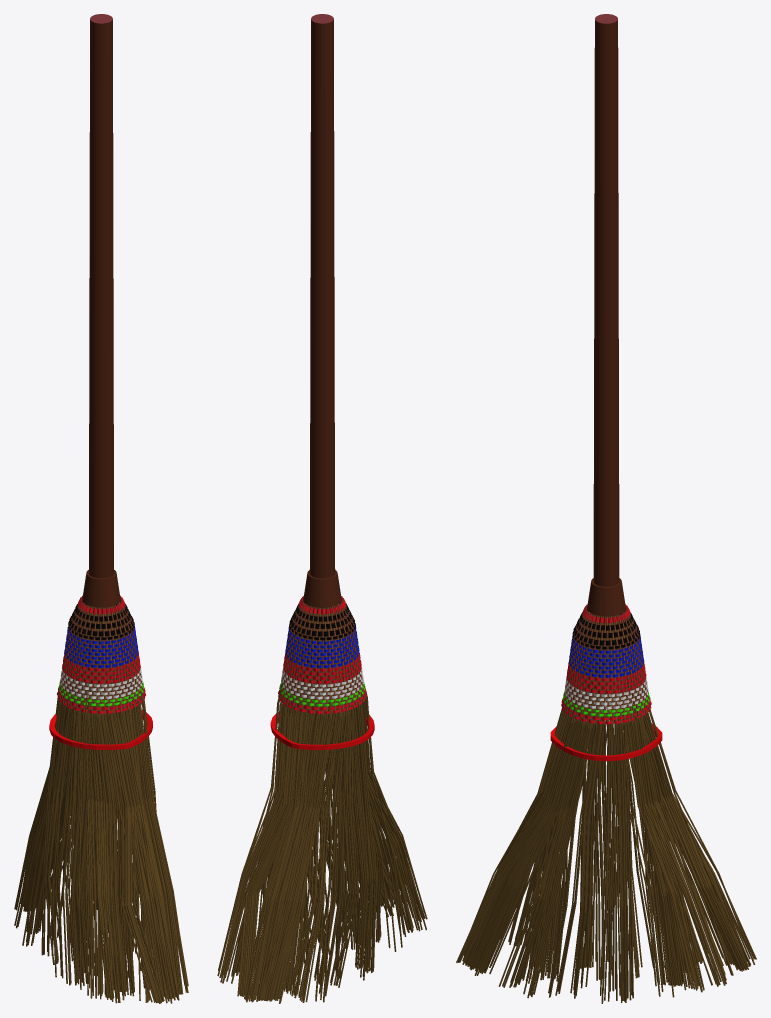
The model's file is broom but still fix.fbx.
3 views of the same model, side by side, from view 1: azimuth 30°, elevation 25°; view 2: azimuth 150°, elevation 25°; view 3: azimuth 270°, elevation 25° (orthographic).
Visible parts, largest first — view 1: Mesh, Circle, Mesh.001, Tessellation, Circle.004; view 2: Mesh, Circle, Mesh.001, Tessellation, Circle.004; view 3: Mesh.001, Circle, Mesh, Tessellation, Circle.004.
Part boxes in pixels (x1,y1,x2,y2): Mesh: (14,605,172,1003); Circle: (82,14,120,607); Mesh.001: (45,605,188,1000); Tessellation: (57,595,145,713); Circle.004: (49,710,152,749); Mesh: (250,604,427,1003); Circle: (303,14,341,607); Mesh.001: (217,604,392,1002); Tessellation: (278,596,366,713); Circle.004: (270,712,374,750); Mesh.001: (456,617,755,1003); Circle: (587,14,625,616); Mesh: (462,612,756,981); Tessellation: (561,604,651,724); Circle.004: (550,723,662,761).
Bounding box in the file's own units: 313 × 2475 × 698.
